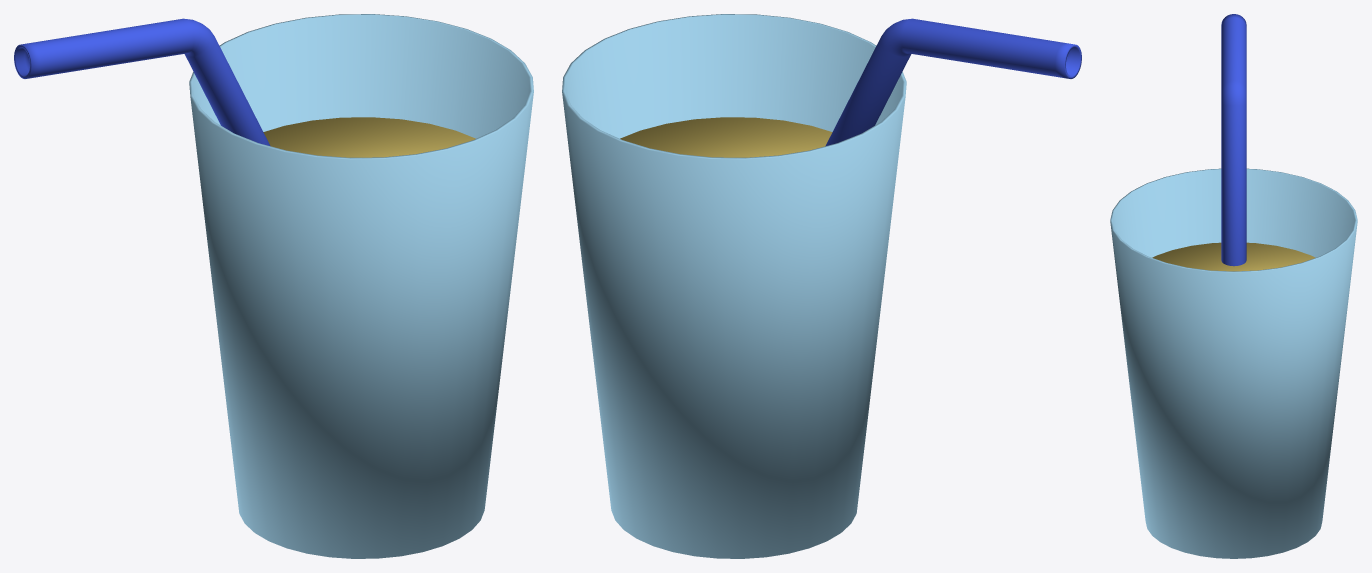
File: Lemonade Cup.fbx
3 renders of one model, left to right at view 1: azimuth 30°, elevation 25°; view 2: azimuth 150°, elevation 25°; view 3: azimuth 270°, elevation 25°, orthographic. The views are drawn at different scales.
Parts seen in each view (by area): view 1: Cylinder.017, Cylinder.022, Cylinder.018; view 2: Cylinder.017, Cylinder.022, Cylinder.018; view 3: Cylinder.017, Cylinder.022, Cylinder.018.
Part boxes in pixels (x1,y1,x2,y2): Cylinder.017: (189,14,533,558); Cylinder.022: (14,18,270,146); Cylinder.018: (263,117,475,157); Cylinder.017: (562,14,906,558); Cylinder.022: (825,18,1081,146); Cylinder.018: (620,117,832,157); Cylinder.017: (1110,168,1357,558); Cylinder.022: (1221,14,1246,266); Cylinder.018: (1152,242,1315,271).
Size of the model in its own units: 196 by 208 by 120.
